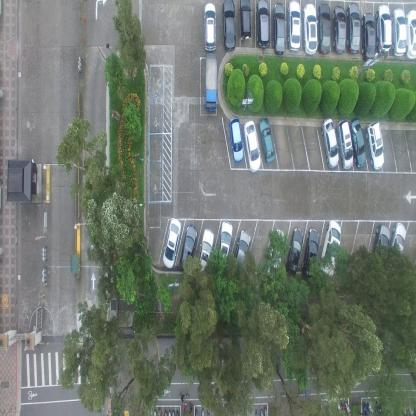car: (317, 220, 341, 283), (386, 220, 406, 275), (264, 230, 284, 283), (300, 228, 319, 283), (369, 223, 390, 272), (215, 218, 233, 274), (162, 217, 181, 269), (196, 226, 214, 280), (365, 120, 384, 171), (321, 117, 339, 170), (178, 223, 197, 273), (348, 116, 366, 168), (336, 119, 354, 170), (233, 228, 250, 280), (204, 51, 218, 114), (346, 0, 362, 55), (258, 115, 276, 162), (244, 119, 260, 171), (317, 0, 332, 55), (391, 5, 407, 56), (286, 226, 302, 277), (376, 3, 392, 54), (303, 2, 318, 55), (255, 0, 270, 51), (287, 0, 301, 53), (222, 0, 236, 53), (273, 0, 286, 55), (228, 118, 244, 162), (361, 12, 375, 61), (333, 2, 346, 53), (204, 2, 217, 52), (238, 0, 252, 43), (406, 8, 416, 60)
